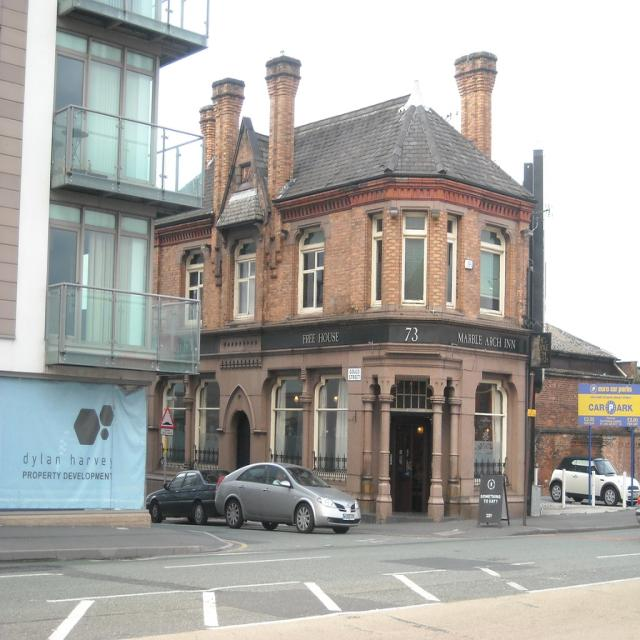car: (216, 459, 358, 533), (143, 467, 228, 526)
